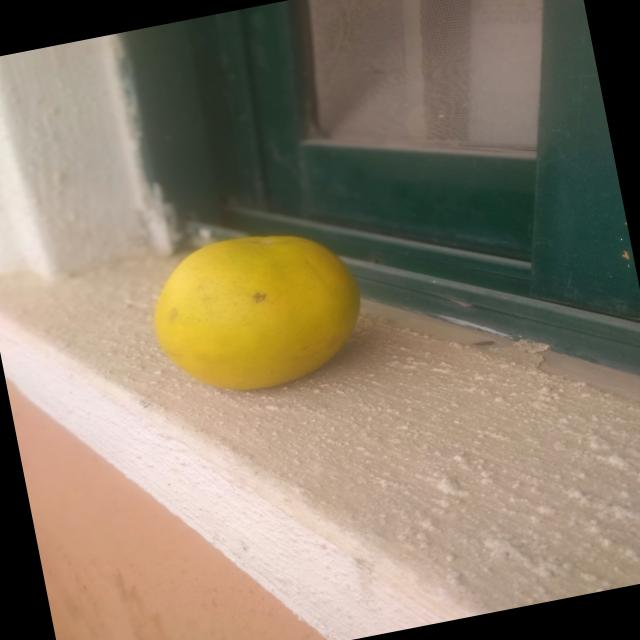Ripe orange: (142, 218, 380, 411)
